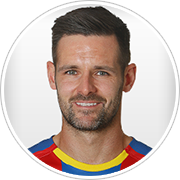smile: (73, 99, 103, 110)
